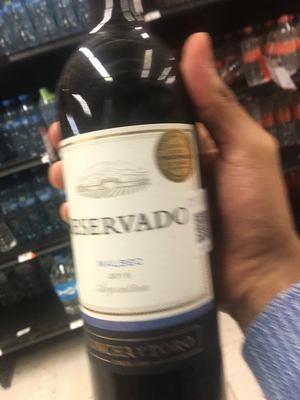reservado malbec: (51, 32, 239, 400)
